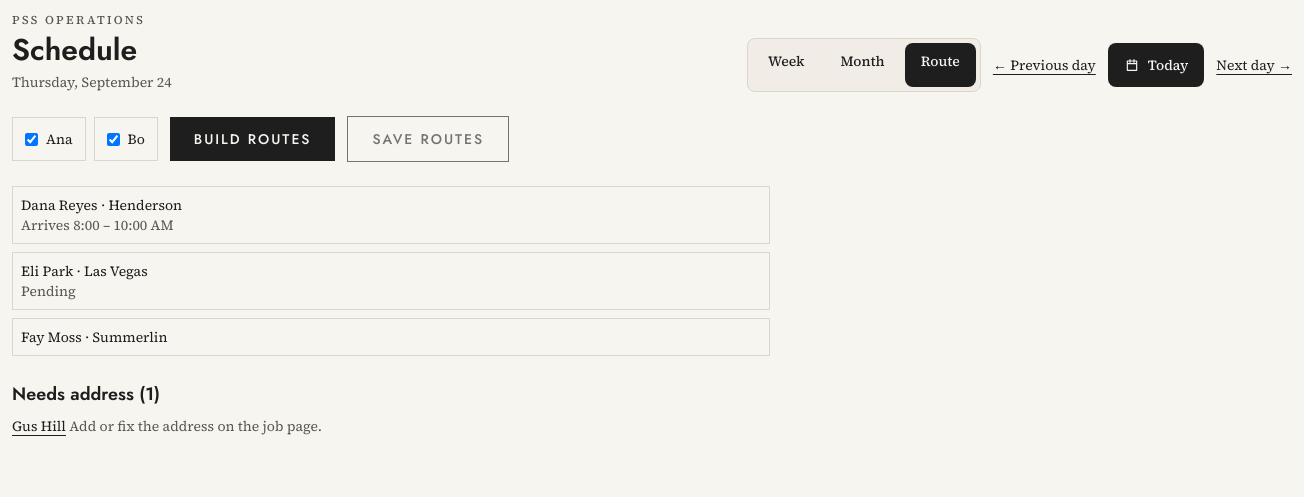
Build routes › shows the server's error
Click the button "Build routes" at (253, 139), box [170,117,335,161]
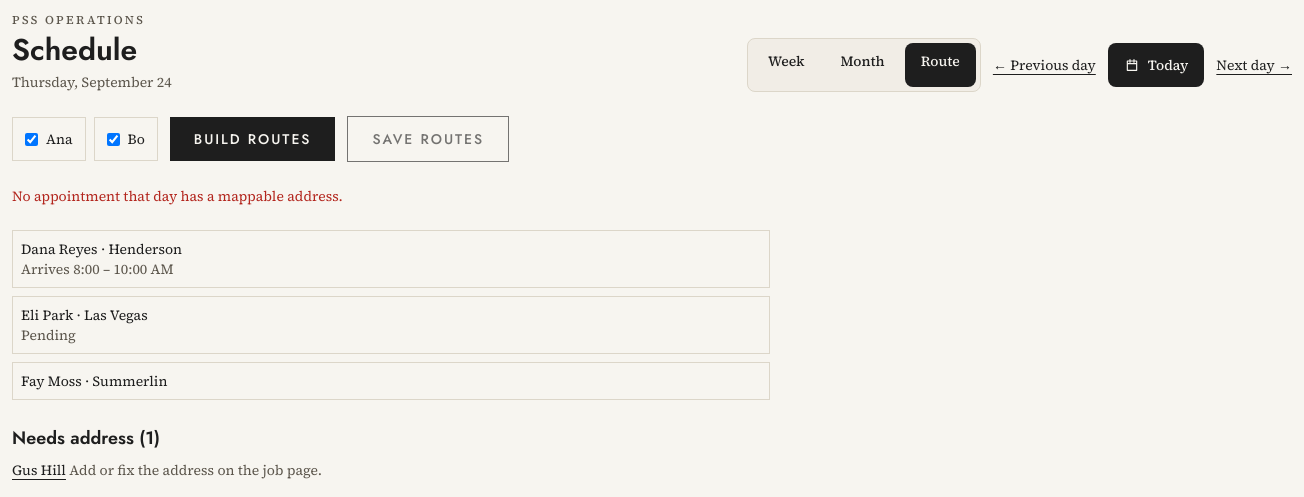
Expected: the button "Save routes" is disabled, [347,116,509,162]
Expected: the message reads "No appointment that day has a mappable address.", [12,186,343,206]
